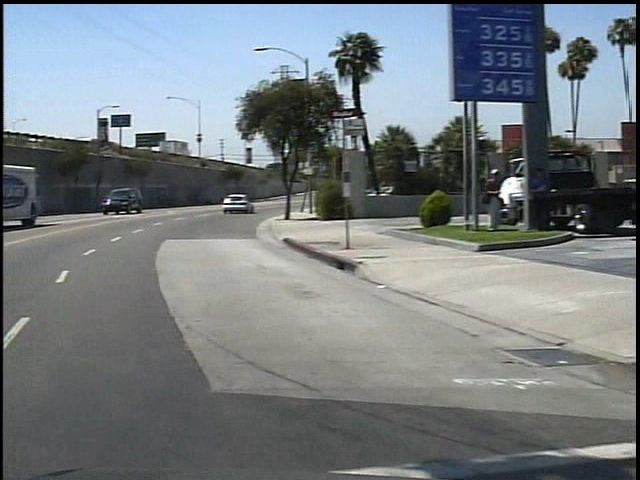person: (471, 165, 498, 233)
